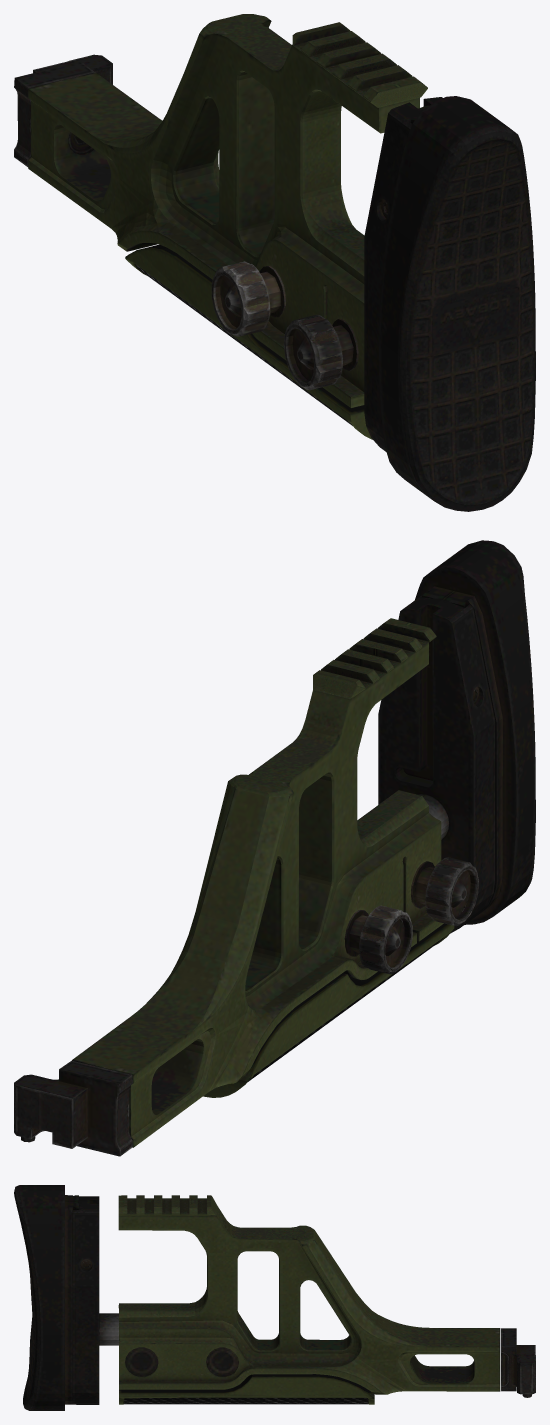
3 views of the same model, one above another, from view 1: azimuth 30°, elevation 25°; view 2: azimuth 150°, elevation 25°; view 3: azimuth 270°, elevation 25° (orthographic). The views are drawn at different scales.
Visible parts, largest first — view 1: TW_58889d0c2459775bc215d981_PZ_Import; view 2: TW_58889d0c2459775bc215d981_PZ_Import; view 3: TW_58889d0c2459775bc215d981_PZ_Import.
Part boxes in pixels (left/top/right/bottom): TW_58889d0c2459775bc215d981_PZ_Import: left=14, top=14, right=535, bottom=511; TW_58889d0c2459775bc215d981_PZ_Import: left=14, top=540, right=535, bottom=1156; TW_58889d0c2459775bc215d981_PZ_Import: left=14, top=1185, right=535, bottom=1410.
Size of the model in its own units: 0.0317 by 0.1712 by 0.0797.
Materials: 1 (1 with a texture image).
